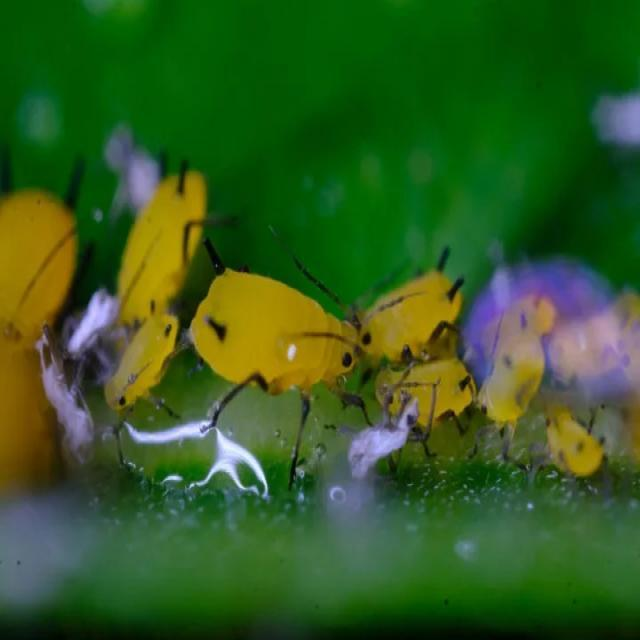Aphids: (106, 144, 482, 468)
